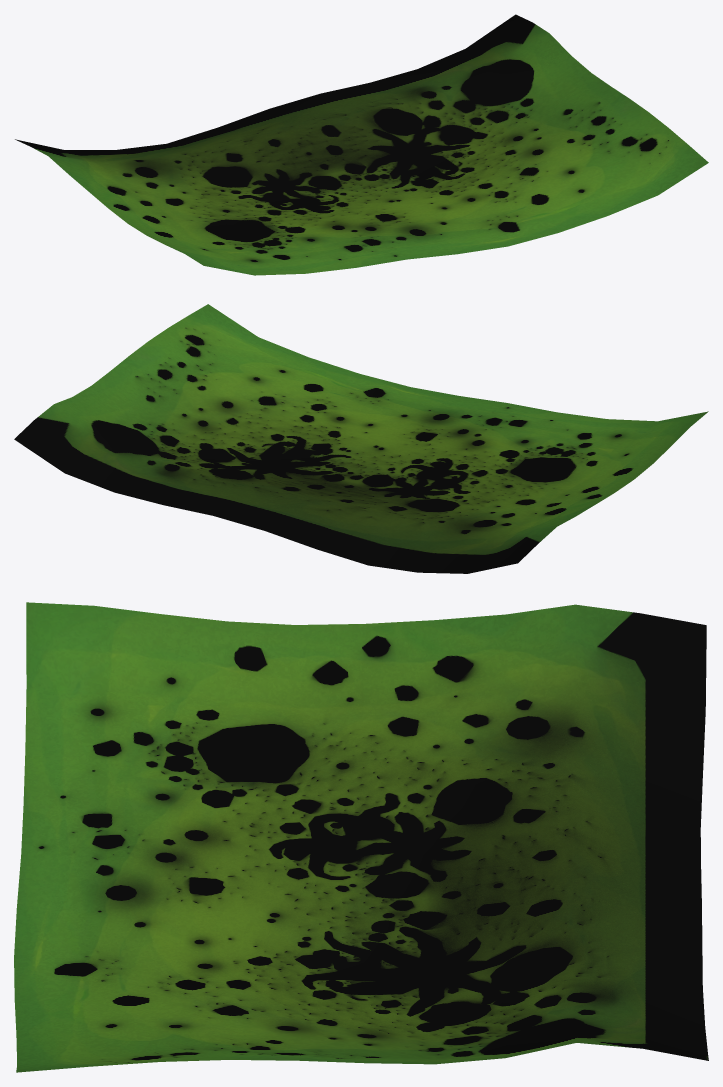
File: SolTerre.FBX
3 renders of one model, top to bottom at view 1: azimuth 30°, elevation 25°; view 2: azimuth 150°, elevation 25°; view 3: azimuth 270°, elevation 25°, orthographic. The views are drawn at different scales.
Visible parts, largest first — view 1: SolTerre; view 2: SolTerre; view 3: SolTerre.
Boxes of the visible parts, x1,y1,x2,y2 form: SolTerre: (15,14,708,275); SolTerre: (14,304,708,573); SolTerre: (14,602,708,1072).
Bounding box in the file's own units: 30.05 × 3 × 20.02.
